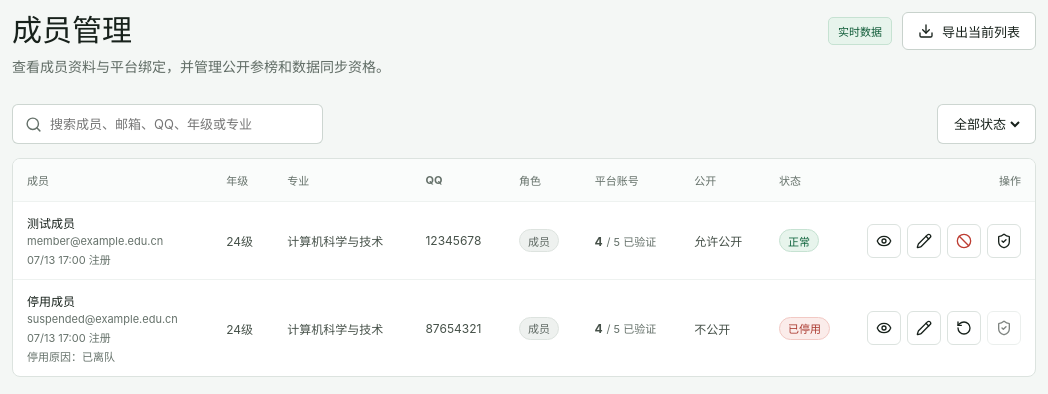
Test: AdminMembersPage with Supabase configured › loads members and filters by private fields and status
Expected: the row "测试成员" is shown, [13,201,1035,280]
Expected: the row "停用成员" is shown, [13,280,1035,376]
Select "已停用" in the dropdown named "成员状态" at (986, 124), box [950,107,1023,141]
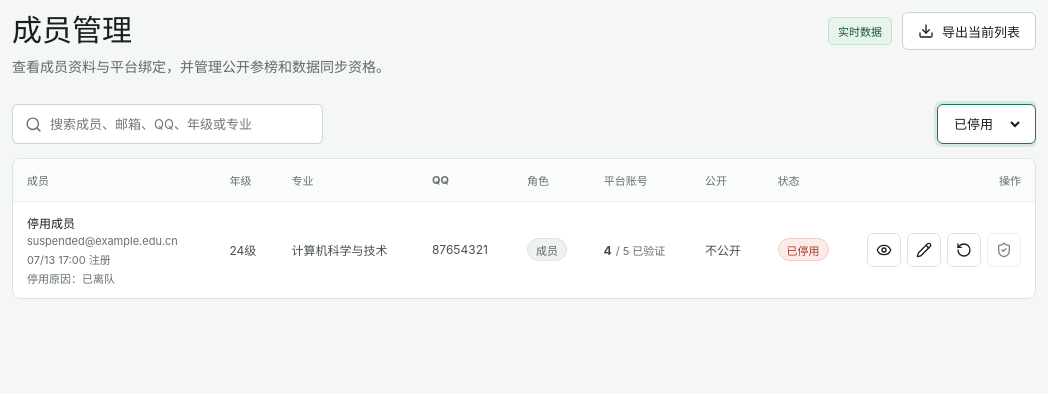
Expected: the row "停用成员" is shown, [13,201,1035,298]
Result: the text "测试成员" is gone
Select "全部状态" in the dropdown named "成员状态" at (986, 124), box [950,107,1023,141]
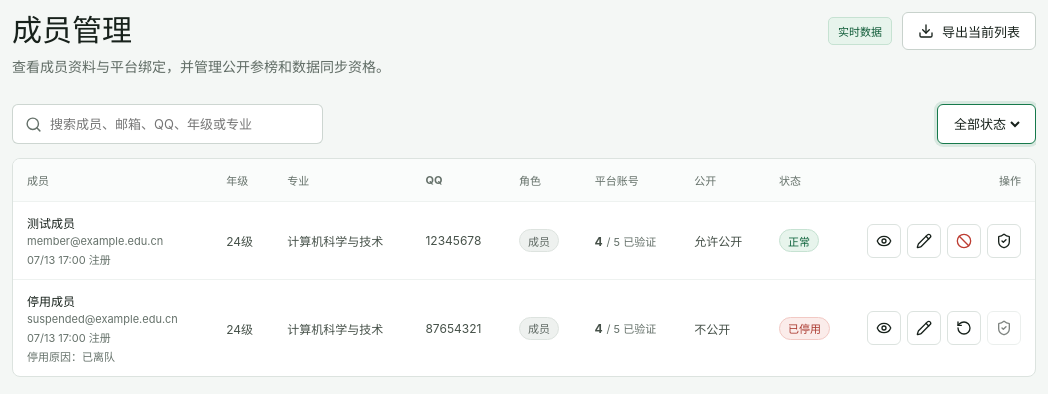
Type "12345678" into the field with placeholder "搜索成员、邮箱、QQ、年级或专业".
click(180, 124); type("12345678")  # box [50,107,310,141]
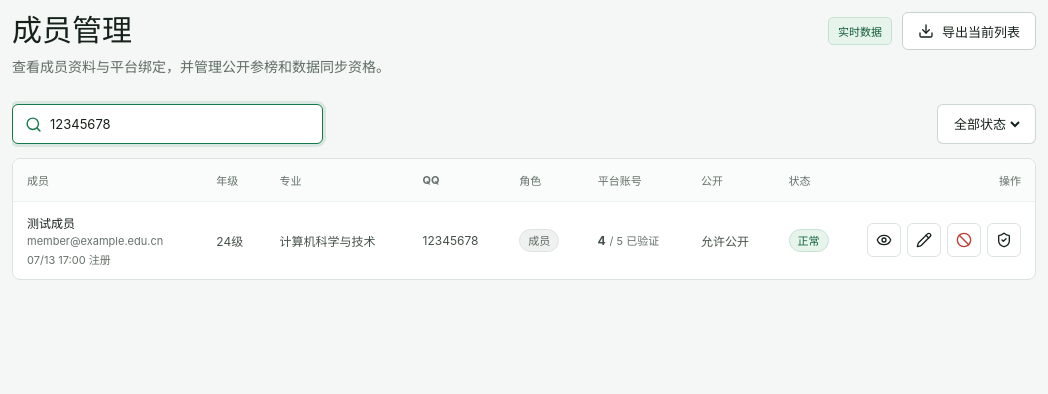
Result: the row "测试成员" is shown at [13,201,1035,279]
Result: the text "停用成员" is gone
